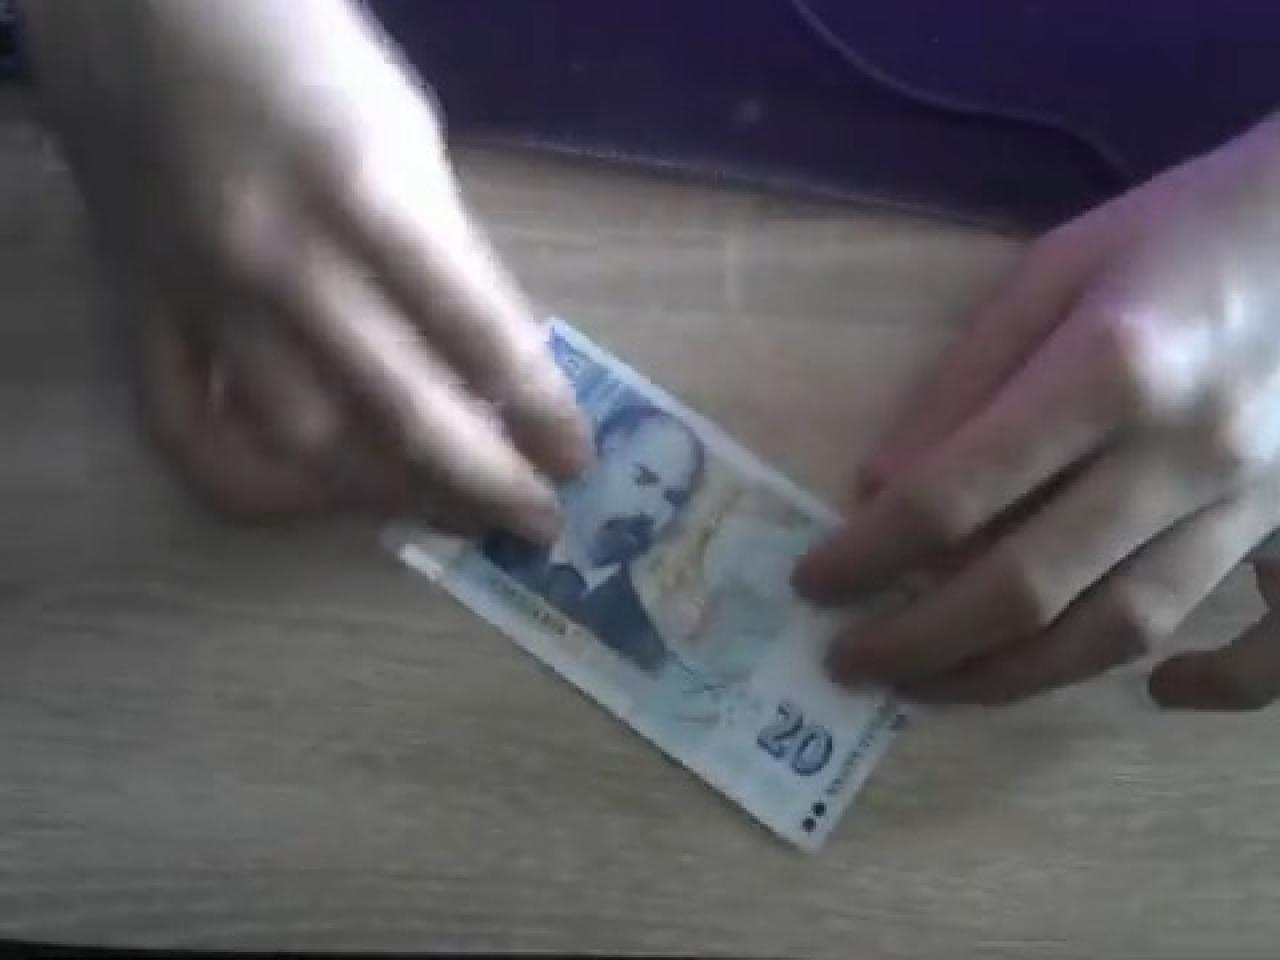20leva: (381, 320, 904, 859)
